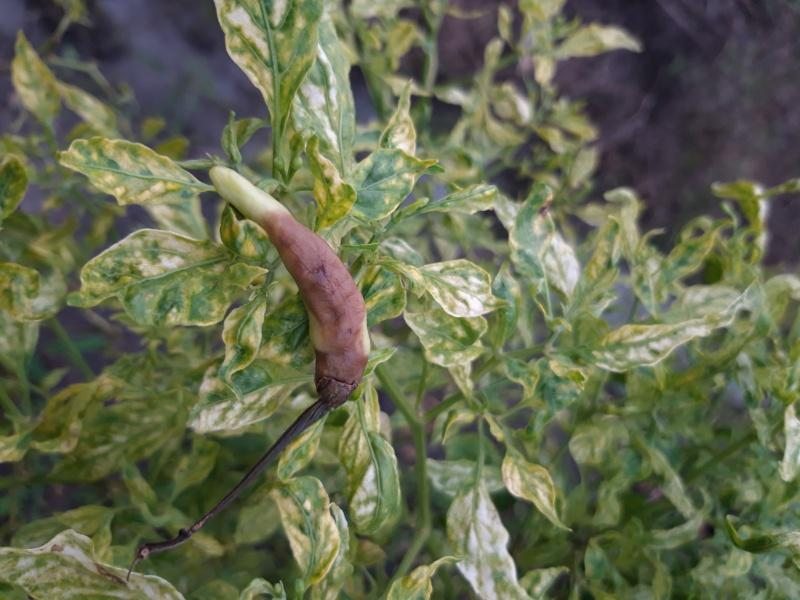lalat_buah: (209, 161, 372, 399)
